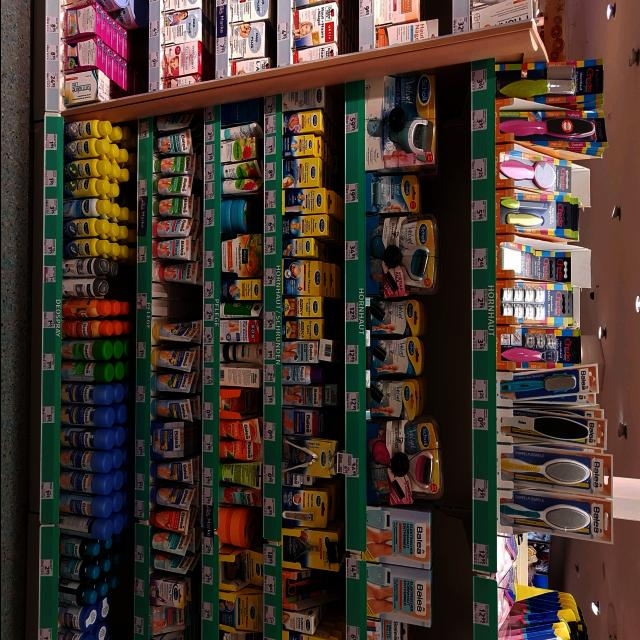empty_space: (155, 289, 201, 319)
